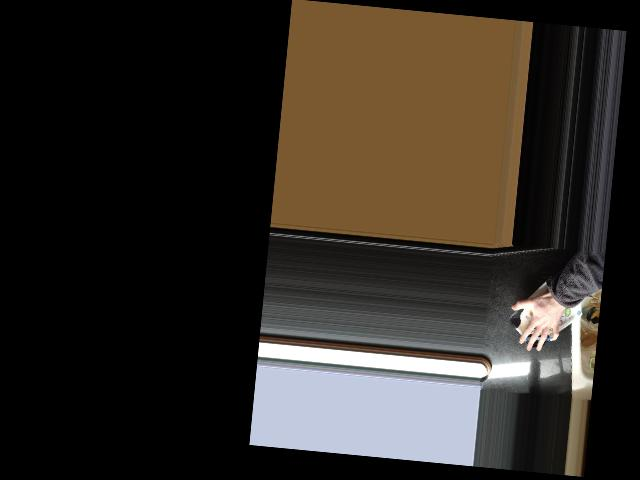cheese: (505, 273, 588, 355)
